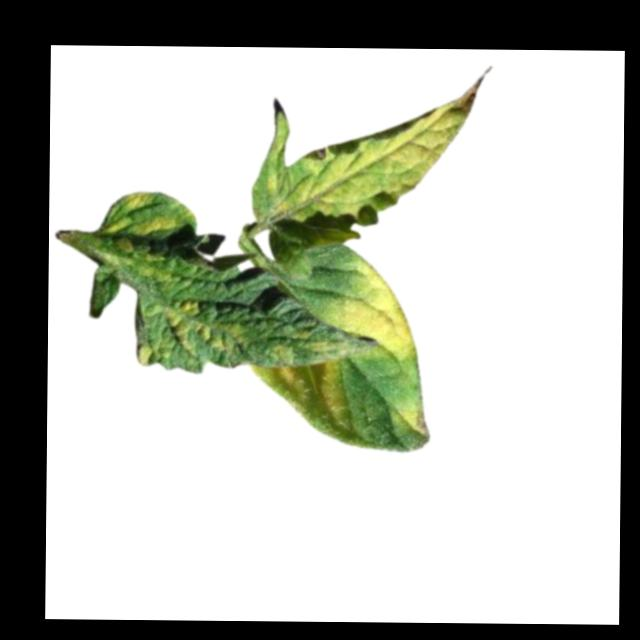Leaf_Mold: (263, 100, 467, 243), (323, 253, 418, 361), (244, 363, 349, 447), (168, 301, 245, 356), (104, 190, 175, 239), (292, 328, 349, 355), (391, 407, 428, 441), (270, 340, 292, 365), (135, 341, 153, 369)
